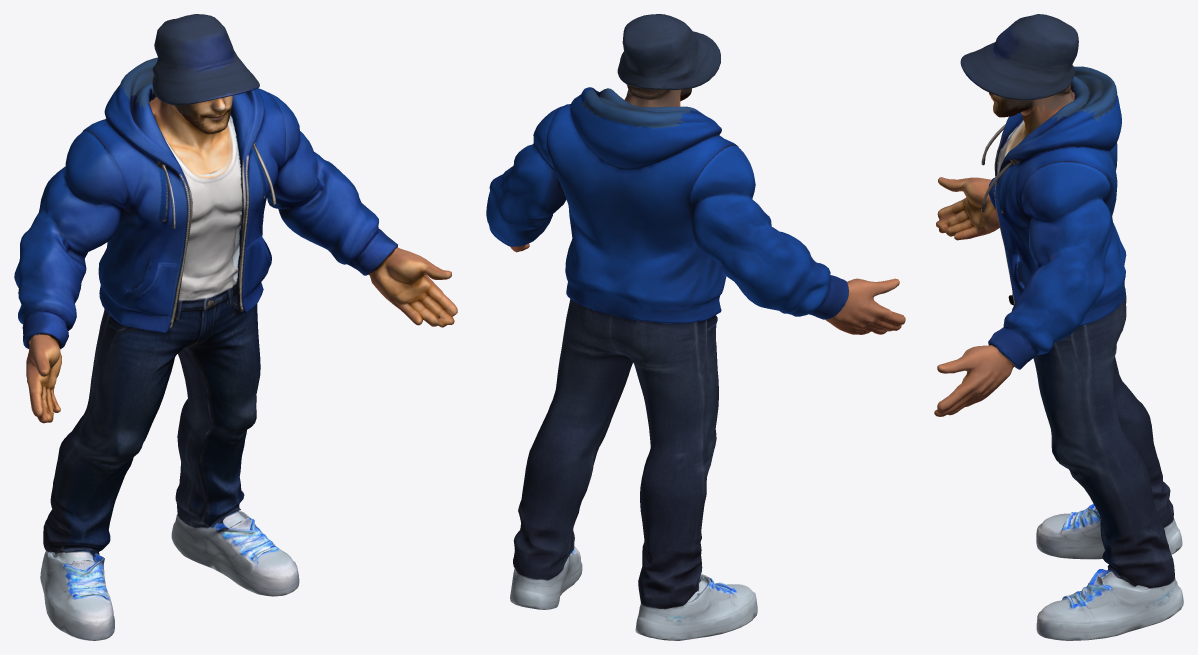
Rendered from garage-hoodie_body.glb.
3 renders of one model, left to right at view 1: azimuth 30°, elevation 25°; view 2: azimuth 150°, elevation 25°; view 3: azimuth 270°, elevation 25°, orthographic. The views are drawn at different scales.
Parts seen in each view (by area): view 1: garage-hoodie; view 2: garage-hoodie; view 3: garage-hoodie.
Boxes of the visible parts, x1,y1,x2,y2 form: garage-hoodie: (14, 14, 457, 640); garage-hoodie: (486, 14, 905, 640); garage-hoodie: (934, 14, 1183, 640).
Bounding box in the file's own units: 1.33 × 1.8 × 0.7133.
2 materials, 2 textured.
